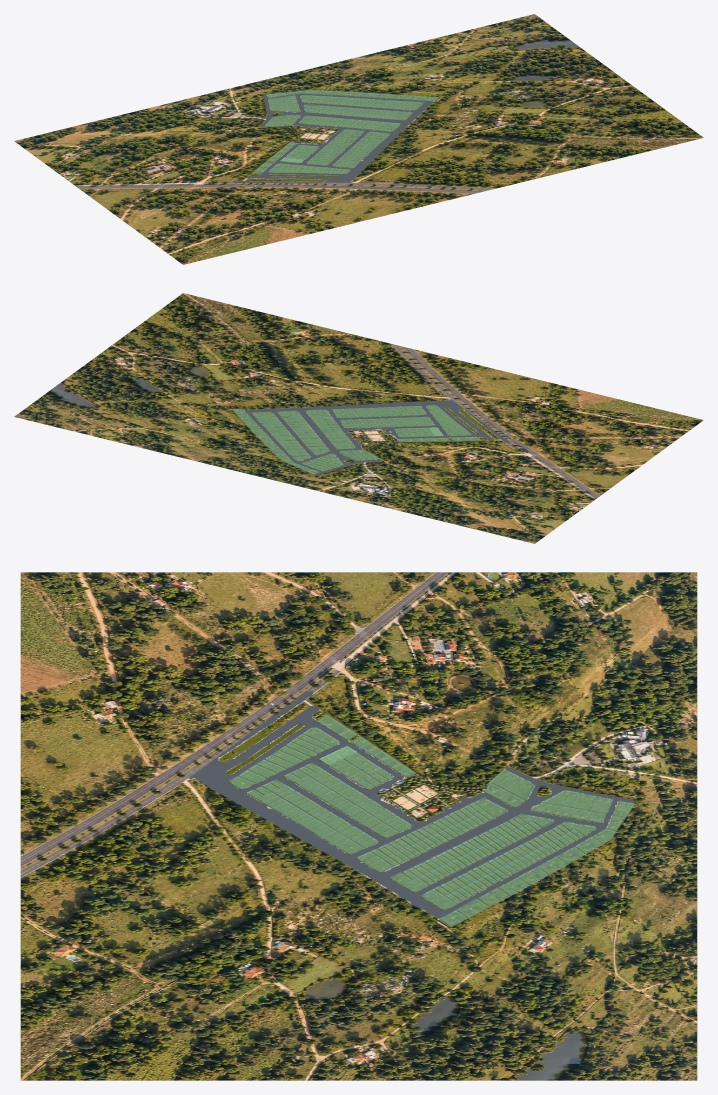
File: alianca_park_editable_v1.glb
3 renders of one model, top to bottom at view 1: azimuth 30°, elevation 25°; view 2: azimuth 150°, elevation 25°; view 3: azimuth 270°, elevation 25°, orthographic. The views are drawn at different scales.
Visible parts, largest first — view 1: Chão · imagem aérea texturizada, Rua_03 · segmento reto preenchido, Asfalto · malha UV contínua sem focos vegetais, Rua_direita · segmento unico entre meios-fios; view 2: Chão · imagem aérea texturizada, Rua_03 · segmento reto preenchido, Asfalto · malha UV contínua sem focos vegetais, Rua_direita · segmento unico entre meios-fios; view 3: Chão · imagem aérea texturizada, Rua_03 · segmento reto preenchido, Asfalto · malha UV contínua sem focos vegetais, Rua_direita · segmento unico entre meios-fios.
Boxes of the visible parts, <box> form: Chão · imagem aérea texturizada: <box>14,14,703,264</box>; Rua_03 · segmento reto preenchido: <box>247,93,431,182</box>; Asfalto · malha UV contínua sem focos vegetais: <box>232,93,432,182</box>; Rua_direita · segmento unico entre meios-fios: <box>346,101,432,181</box>; Chão · imagem aérea texturizada: <box>14,293,703,543</box>; Rua_03 · segmento reto preenchido: <box>245,400,493,474</box>; Asfalto · malha UV contínua sem focos vegetais: <box>244,399,510,475</box>; Rua_direita · segmento unico entre meios-fios: <box>245,400,449,412</box>; Chão · imagem aérea texturizada: <box>20,572,697,1080</box>; Rua_03 · segmento reto preenchido: <box>191,706,633,917</box>; Asfalto · malha UV contínua sem focos vegetais: <box>189,691,633,918</box>; Rua_direita · segmento unico entre meios-fios: <box>195,777,446,918</box>.
Size of the model in its own units: 569 by 0.473 by 320.
Materials: 6 (1 with a texture image).
